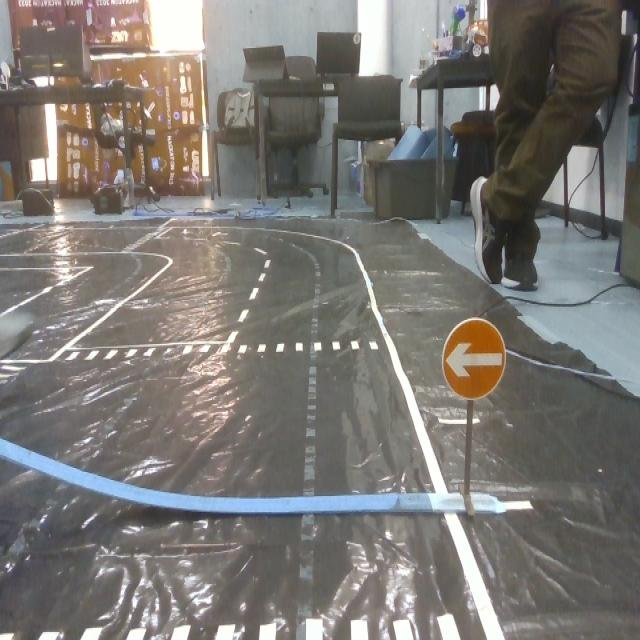forward: (441, 316, 510, 403)
